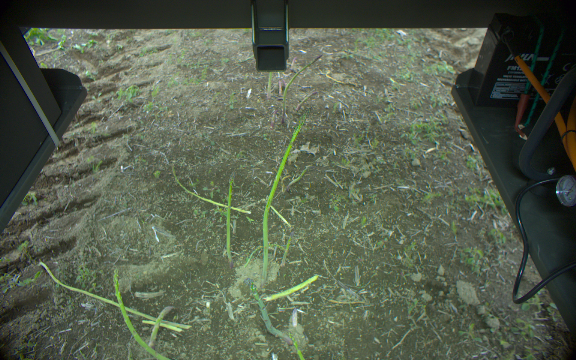aspa: (257, 117, 313, 284), (109, 267, 175, 360), (169, 160, 252, 215), (241, 276, 293, 348), (280, 52, 322, 121), (261, 273, 318, 302), (150, 305, 174, 347), (225, 174, 232, 266)
